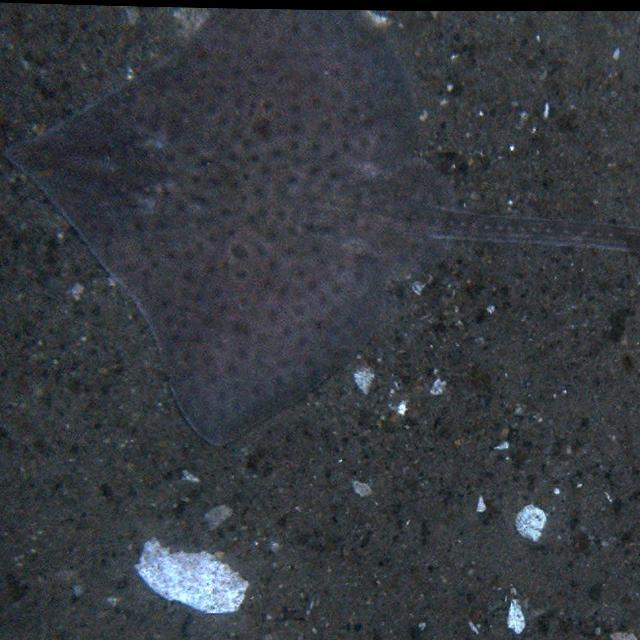skate: (2, 0, 638, 449)
